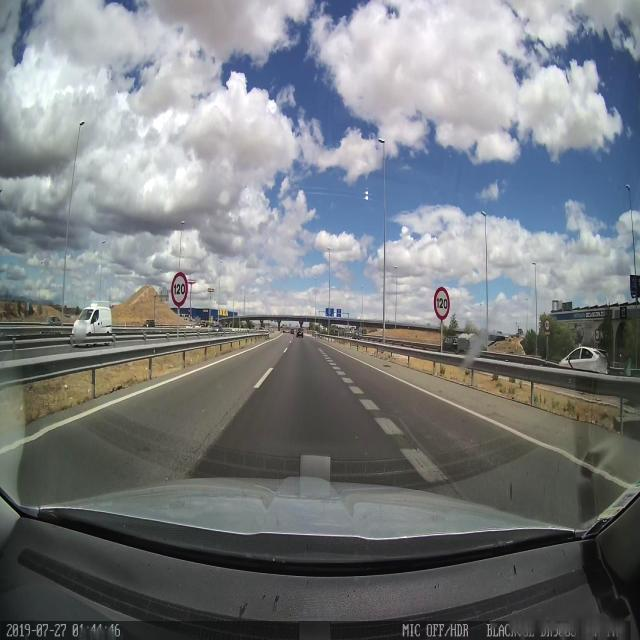car: (68, 300, 115, 347), (558, 345, 608, 374), (295, 327, 306, 339)
